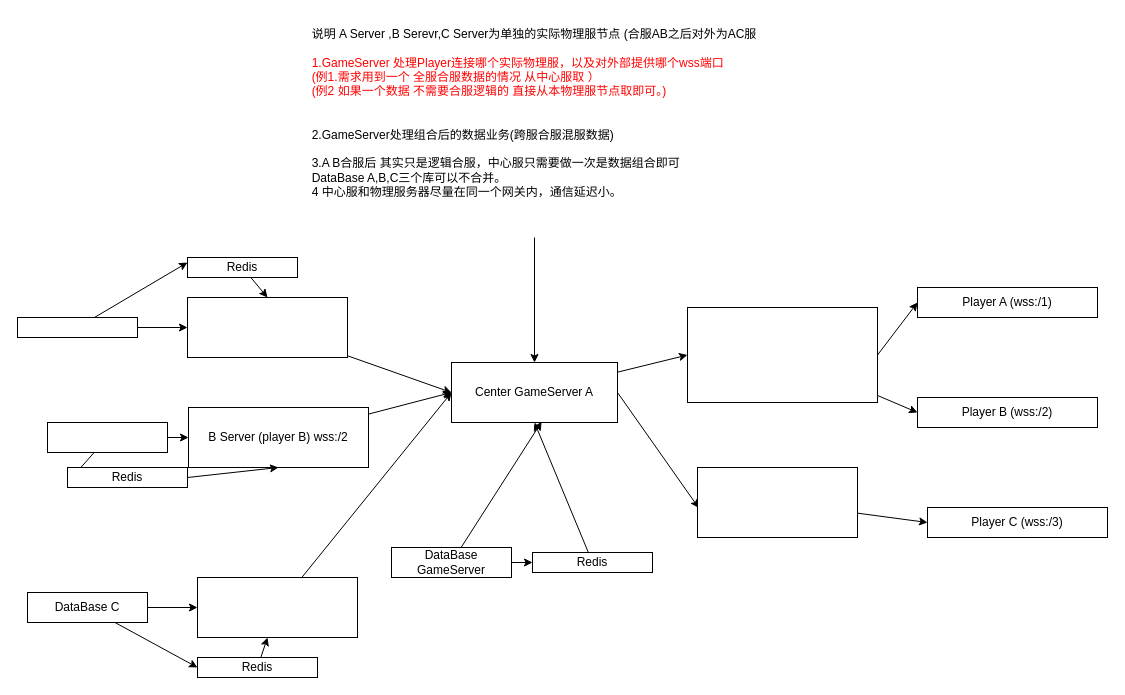
The diagram is 1125 pixels wide and 695 high, and some of its shapes have lost their labels. Here are the shapes that lost their labels. From the top down, the centre of each, then its label:
At point (77, 327): "DataBase A".
At point (267, 327): "A Server（player A）wss:/1".
At point (782, 354): "(逻辑服B) A合并到B的(逻辑服)(配置服务器组)".
At point (107, 437): "DataBase B".
At point (777, 502): "(逻辑服C）".
At point (277, 607): "C Server（wss/3）(Player C)".
